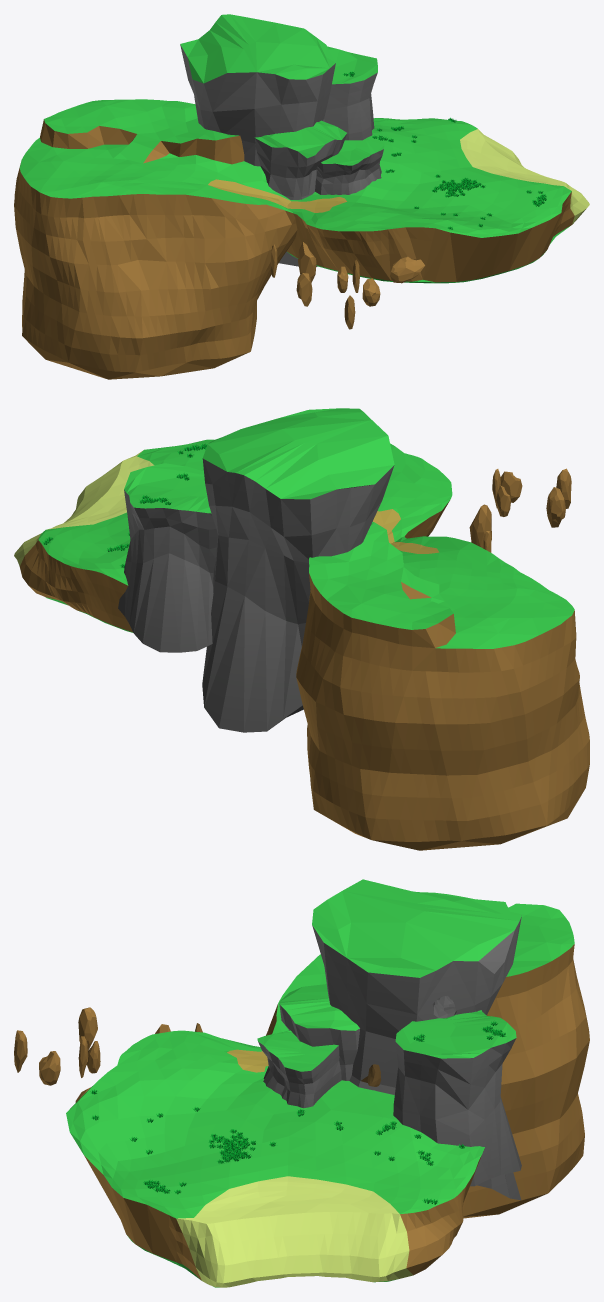
The model's file is island_flat.glb.
The picture shows the model from 3 angles, top to bottom: view 1: azimuth 30°, elevation 25°; view 2: azimuth 150°, elevation 25°; view 3: azimuth 270°, elevation 25°; orthographic projection. The views are drawn at different scales.
Visible parts, largest first — view 1: Icosphere, main_island, Plane.016, Plane.018, Plane.020, reef, Plane.019, grass_bunch_joined.031; view 2: Icosphere, Plane.016, main_island, Plane.020, reef; view 3: main_island, Plane.016, Icosphere, Plane.020, Plane.019, Plane.018, reef, grass_bunch_joined.031.
Boxes of the visible parts, left/top/right/bottom form: Icosphere: left=14, top=99, right=297, bottom=379; main_island: left=286, top=118, right=589, bottom=283; Plane.016: left=180, top=14, right=335, bottom=266; Plane.018: left=254, top=120, right=347, bottom=199; Plane.020: left=324, top=46, right=377, bottom=140; reef: left=270, top=242, right=424, bottom=329; Plane.019: left=315, top=140, right=384, bottom=194; grass_bunch_joined.031: left=432, top=177, right=485, bottom=197; Icosphere: left=296, top=521, right=589, bottom=850; Plane.016: left=202, top=408, right=394, bottom=732; main_island: left=14, top=439, right=452, bottom=632; Plane.020: left=118, top=463, right=217, bottom=652; reef: left=469, top=468, right=571, bottom=552; main_island: left=66, top=1030, right=484, bottom=1287; Plane.016: left=312, top=879, right=521, bottom=1200; Icosphere: left=266, top=892, right=589, bottom=1218; Plane.020: left=393, top=1010, right=521, bottom=1186; Plane.019: left=257, top=1030, right=341, bottom=1108; Plane.018: left=279, top=984, right=360, bottom=1080; reef: left=14, top=1007, right=202, bottom=1102; grass_bunch_joined.031: left=208, top=1129, right=255, bottom=1163.
Size of what is drawn, in the model's own units: 65.02 by 35.53 by 52.87.
112 materials, 104 textured.
